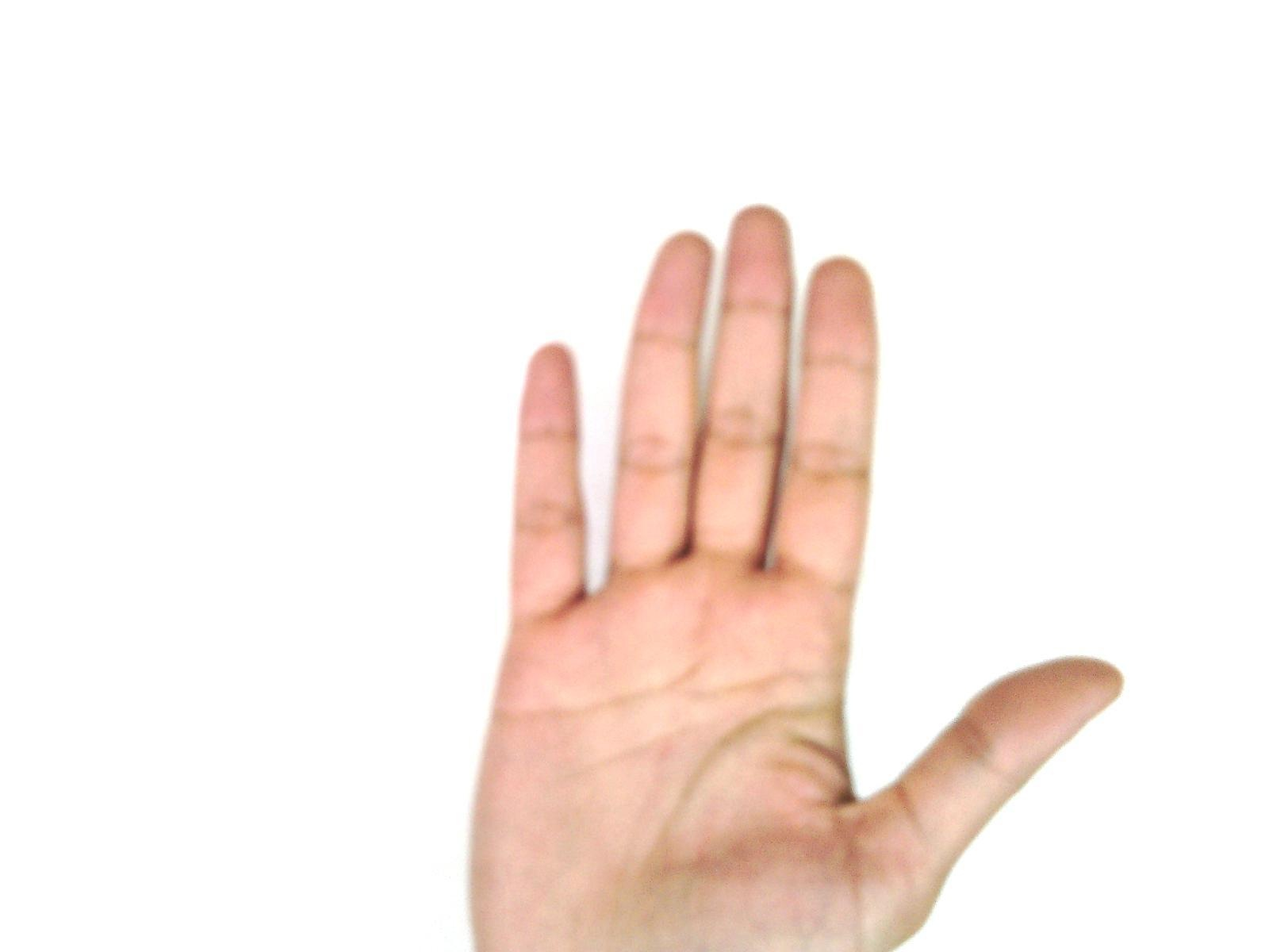open_palm: (462, 204, 1126, 952)
